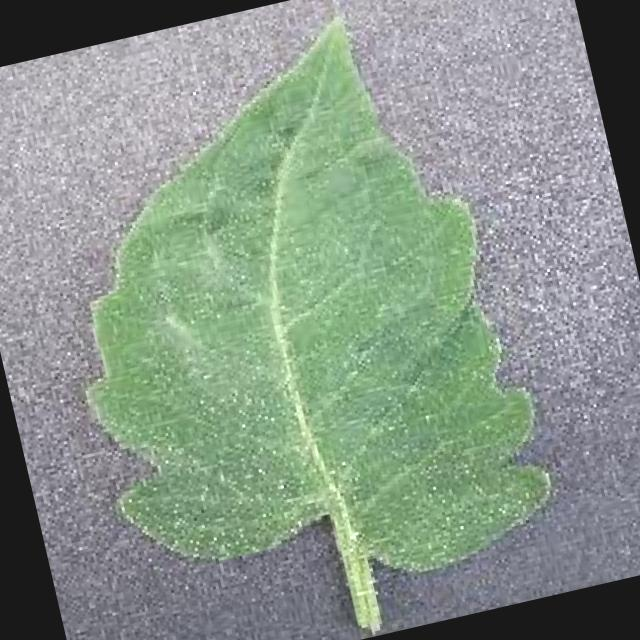healthy: (83, 20, 548, 634)
